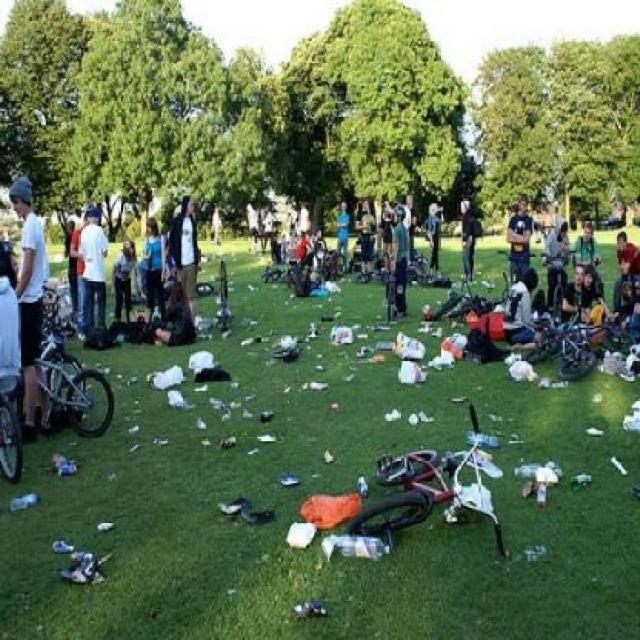garbage: (135, 337, 568, 550), (342, 436, 524, 576), (9, 476, 175, 606), (305, 306, 461, 394), (120, 346, 196, 474), (567, 388, 626, 532), (40, 443, 123, 502), (197, 308, 276, 364), (274, 586, 347, 636)
